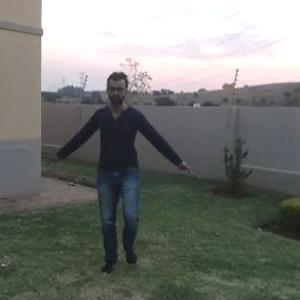land: (54, 61, 214, 286)
